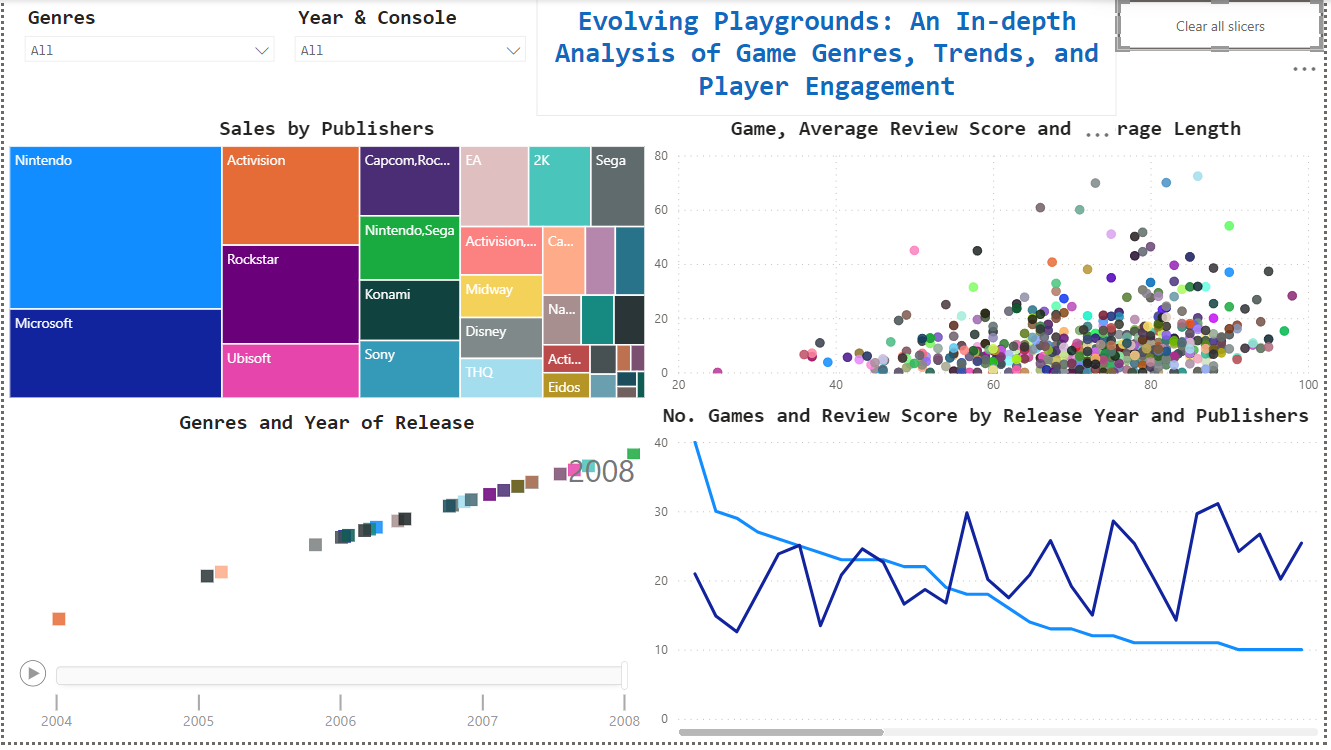

What the dashboard file says about the page in this screenshot:
{"tool":"powerbi","page":{"name":"Page 1","canvas":[1280,720],"ordinal":0},"visuals":[{"type":"slicer","fields":{"Values":["Table1.Release.Year","Table1.Release.Console"]},"box":[271.8,0,244.3,76],"z":0},{"type":"scatterChart","title":"Genres and Year of Release","fields":{"Series":["Table1.Metadata.Genres"],"Play":["Table1.Release.Year"],"X":["Avg(Table1.Metrics.Review Score)"],"Y":["Avg(Table1.Metrics.Review Score)"]},"box":[0,398,626.2,322],"z":1},{"type":"lineChart","title":"No. Games and Review Score by Release Year and Publishers","fields":{"Category":["Table1.Release.Year","Table1.Metadata.Publishers"],"Y":["Table1.Total Game Counts"],"Y2":["Table1.Average Review Score"]},"box":[626.2,391.6,653.7,328.4],"z":2},{"type":"scatterChart","title":"Game, Average Review Score and Average Length","fields":{"Y":["Table1.Length.Main Story.Average"],"Series":["Table1.Title"],"X":["Table1.Average Review Score"]},"box":[626.2,113.3,653.7,278.3],"z":3},{"type":"slicer","title":"Console_Type","fields":{"Values":["Table1.Metadata.Genres"]},"box":[9.7,0,262.1,76],"z":4},{"type":"treemap","title":"Sales by Publishers","fields":{"Group":["Table1.Metadata.Publishers"],"Values":["Max(Table1.Metrics.Sales)"]},"box":[0,113.3,626.2,278.3],"z":5},{"type":"actionButton","box":[1079.2,0,200.6,50.2],"z":6},{"type":"textbox","box":[516.1,0,563.1,113.3],"z":7}]}

Visuals, with their boxes in screenshot pixels (x1, y1, x2, y2), scaled from the page's 1280x720 canvas onto the 1331x750 screenshot:
slicer - Table1.Release.Year x Table1.Release.Console: (x1=283, y1=0, x2=537, y2=79)
"Genres and Year of Release" scatterChart: (x1=0, y1=415, x2=651, y2=749)
"No. Games and Review Score by Release Year and Publishers" lineChart: (x1=651, y1=408, x2=1330, y2=749)
"Game, Average Review Score and Average Length" scatterChart: (x1=651, y1=118, x2=1330, y2=408)
"Console_Type" slicer: (x1=10, y1=0, x2=283, y2=79)
"Sales by Publishers" treemap: (x1=0, y1=118, x2=651, y2=408)
actionButton: (x1=1122, y1=0, x2=1330, y2=52)
textbox: (x1=537, y1=0, x2=1122, y2=118)
